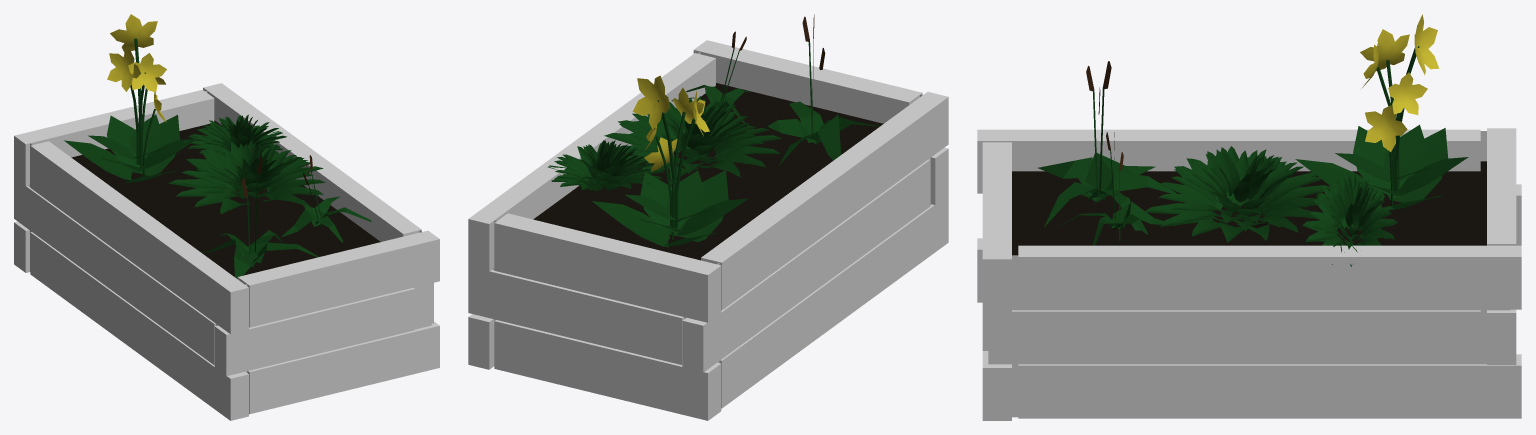
File: planter.fbx
3 renders of one model, left to right at view 1: azimuth 30°, elevation 25°; view 2: azimuth 150°, elevation 25°; view 3: azimuth 270°, elevation 25°, orthographic. The views are drawn at different scales.
Parts seen in each view (by area): view 1: Plane.010; view 2: Plane.010; view 3: Plane.010.
Boxes of the visible parts, x1=… form: Plane.010: x1=14, y1=14, x2=439, y2=420; Plane.010: x1=468, y1=14, x2=948, y2=420; Plane.010: x1=977, y1=14, x2=1521, y2=420.
Bounding box in the file's own units: 1058 × 1224 × 1858.
